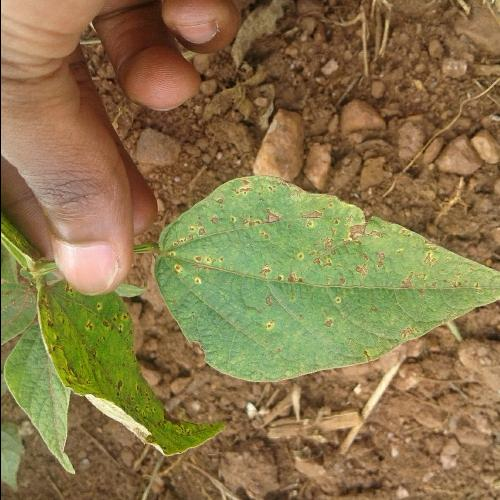hawar: (396, 233, 482, 306), (321, 210, 392, 271), (206, 188, 280, 240), (253, 261, 318, 310), (168, 234, 215, 287), (386, 318, 422, 342), (320, 311, 338, 330), (236, 172, 254, 188)
mozaik: (186, 211, 440, 338)
